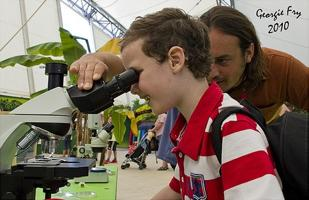person: (121, 9, 287, 200)
